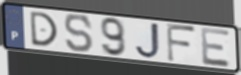9: (99, 16, 128, 58)
D: (28, 10, 60, 48)
E: (199, 26, 232, 69)
F: (165, 22, 199, 64)
J: (134, 21, 162, 60)
S: (63, 13, 95, 54)
